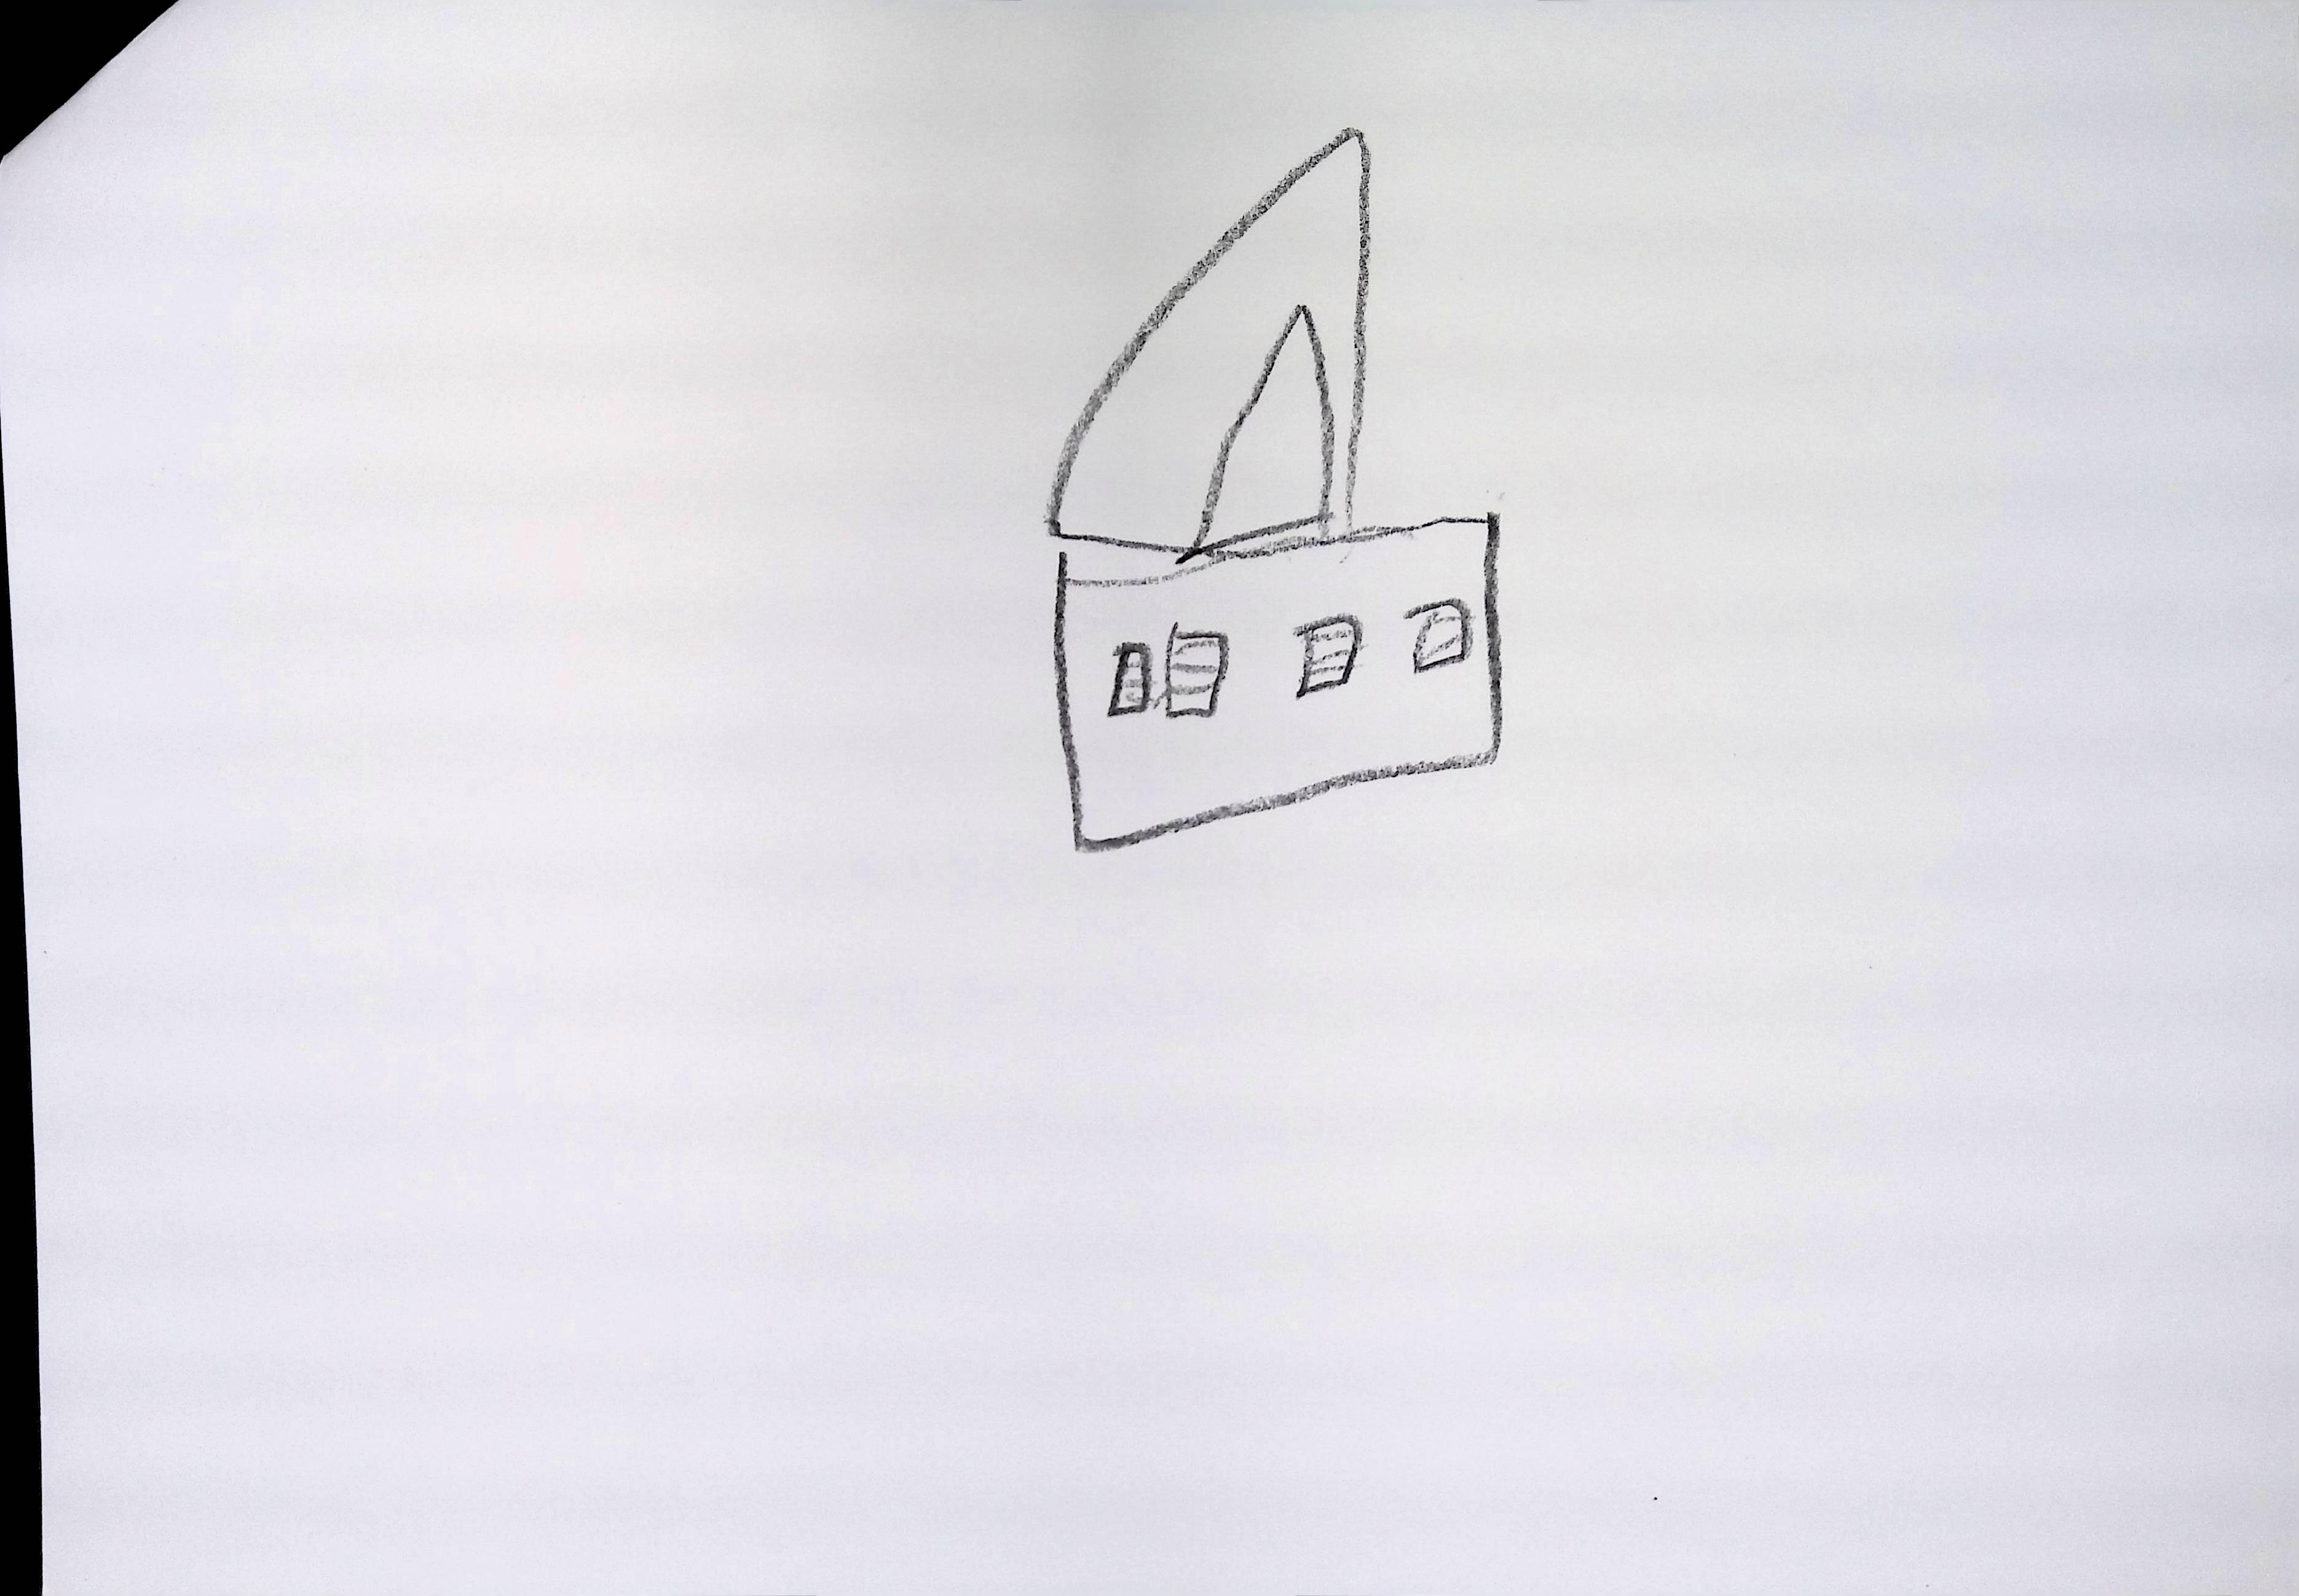house: (1048, 124, 1504, 850)
roof: (1046, 138, 1361, 548)
wall: (1055, 513, 1502, 849)
window: (1165, 622, 1226, 716), (1296, 613, 1363, 697), (1408, 597, 1473, 671), (1108, 641, 1149, 714)
